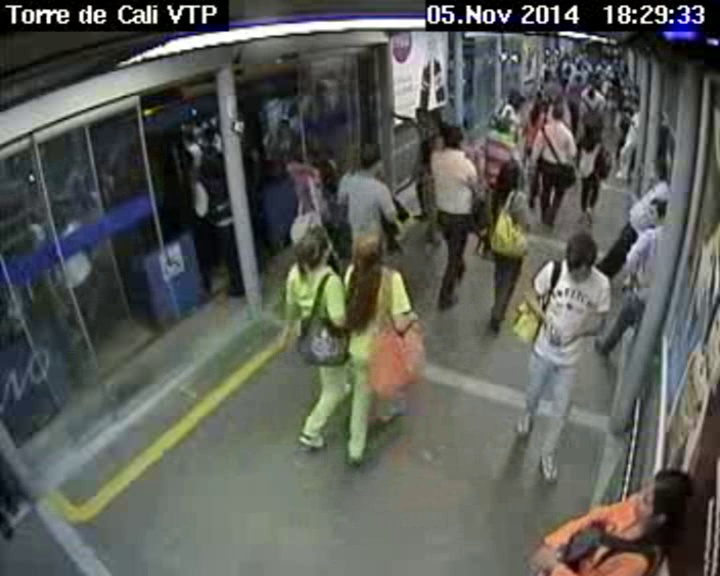person: (632, 455, 698, 537), (284, 219, 338, 270), (560, 228, 601, 293), (345, 221, 385, 273), (304, 157, 340, 192), (352, 138, 384, 175), (497, 156, 526, 194), (646, 192, 672, 231), (197, 146, 223, 176), (645, 156, 670, 187), (435, 125, 466, 149), (582, 115, 601, 144), (495, 114, 517, 136), (505, 89, 525, 110), (414, 103, 430, 122), (549, 103, 564, 123), (533, 95, 546, 114), (628, 97, 642, 113), (583, 85, 596, 101), (541, 69, 553, 83), (629, 85, 640, 95), (573, 73, 582, 83)
